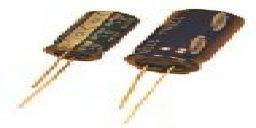Electrolytic Capacitor: (17, 6, 143, 128), (125, 6, 248, 128)
